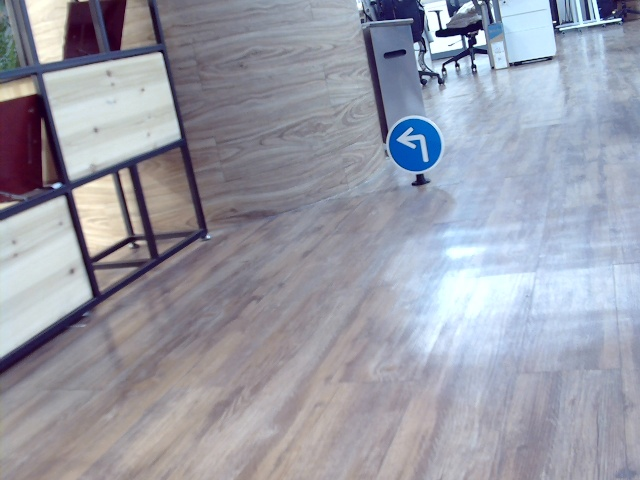turn_left: (395, 126, 431, 161)
